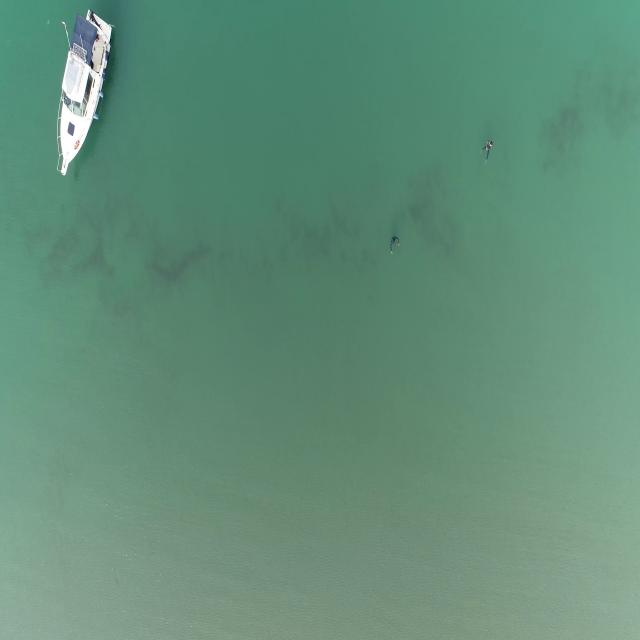boat: (54, 9, 116, 177)
person: (387, 234, 401, 256), (483, 139, 494, 167)
